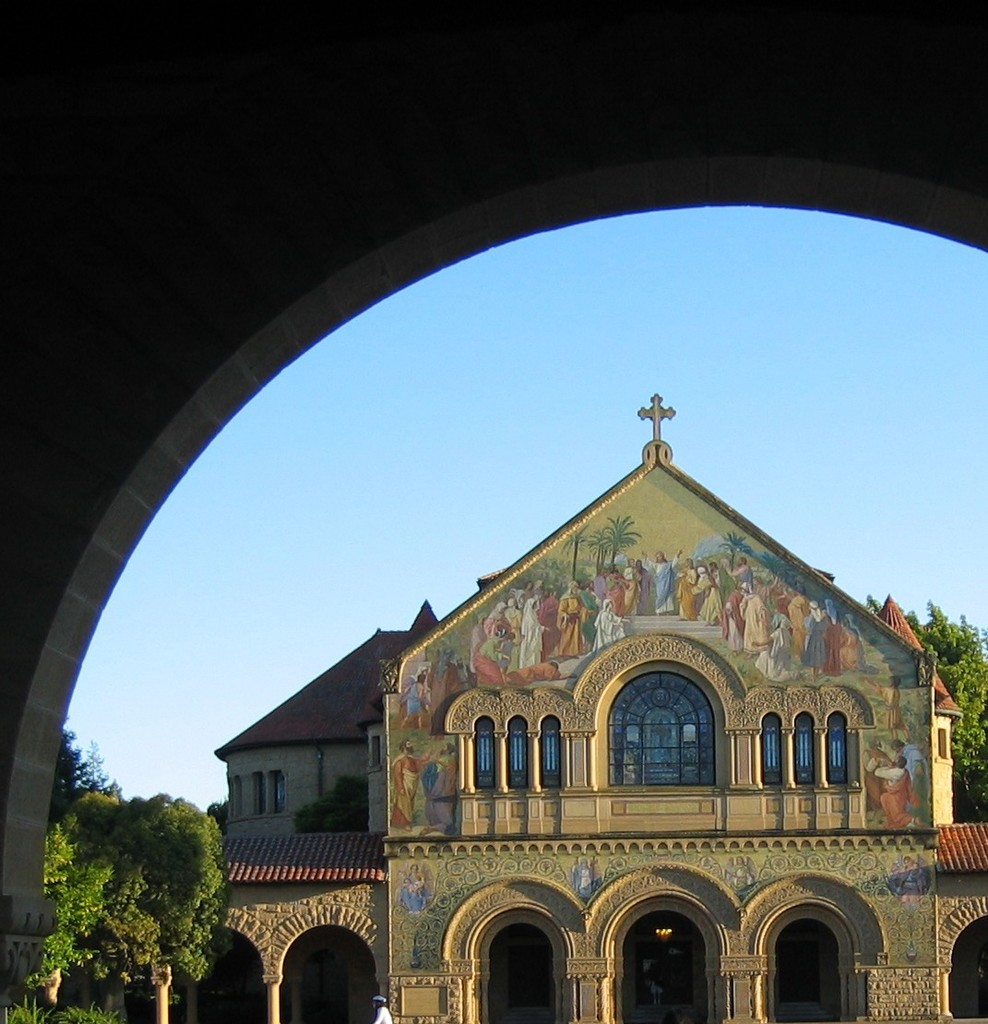Tree: (39, 760, 236, 997), (857, 592, 987, 822)
